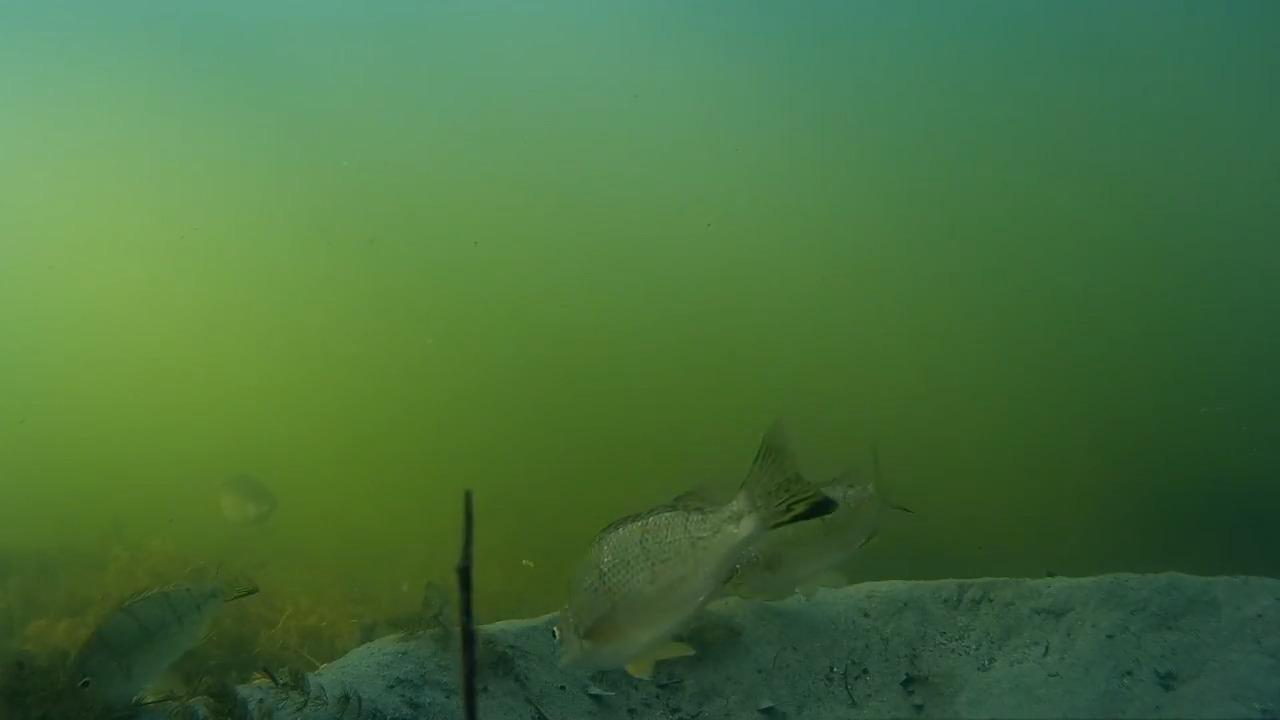Tilapia: (552, 417, 889, 687), (710, 448, 921, 632), (20, 570, 277, 713), (169, 462, 302, 534)
